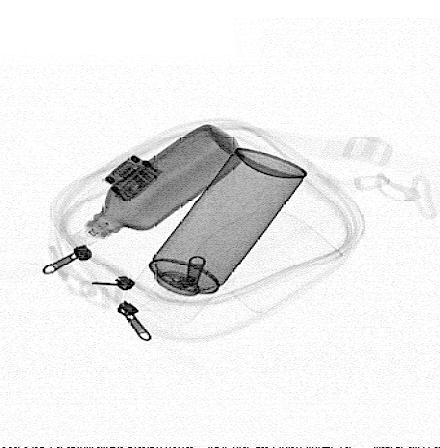Sprayer: (124, 147, 310, 329)
